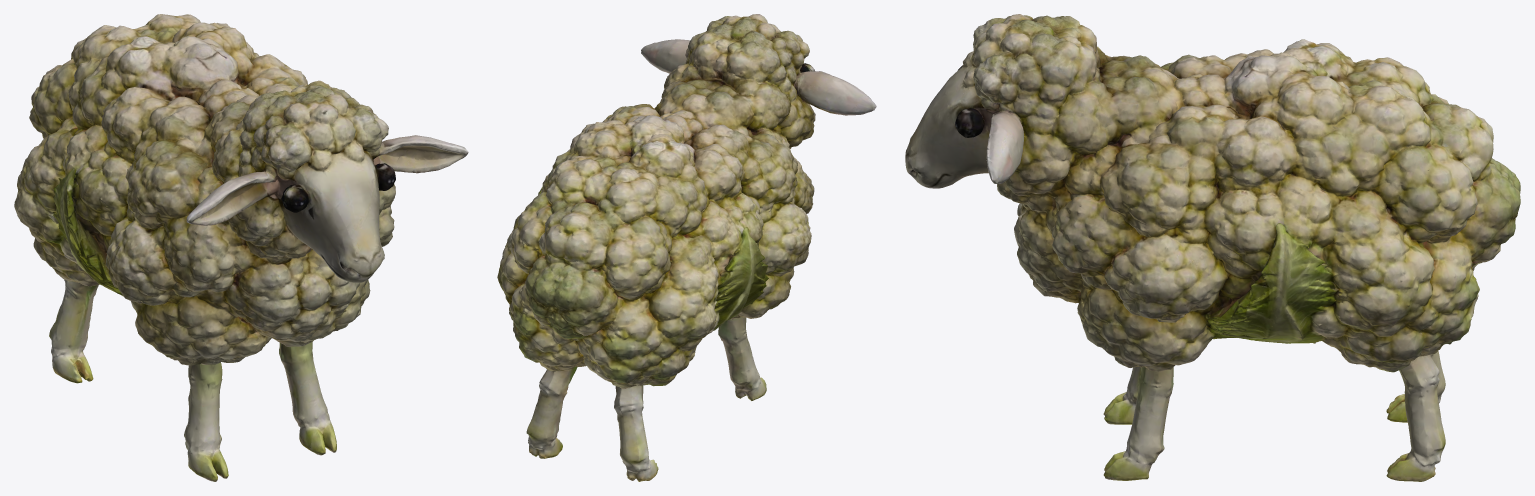
Rendered from Meshy_AI_Cauli_Sheep_food__0318050125_texture.glb.
The picture shows the model from 3 angles, left to right: view 1: azimuth 30°, elevation 25°; view 2: azimuth 150°, elevation 25°; view 3: azimuth 270°, elevation 25°; orthographic projection. The views are drawn at different scales.
Bounding box in the file's own units: 1.07 × 1.46 × 1.9.
1 material, 1 textured.
